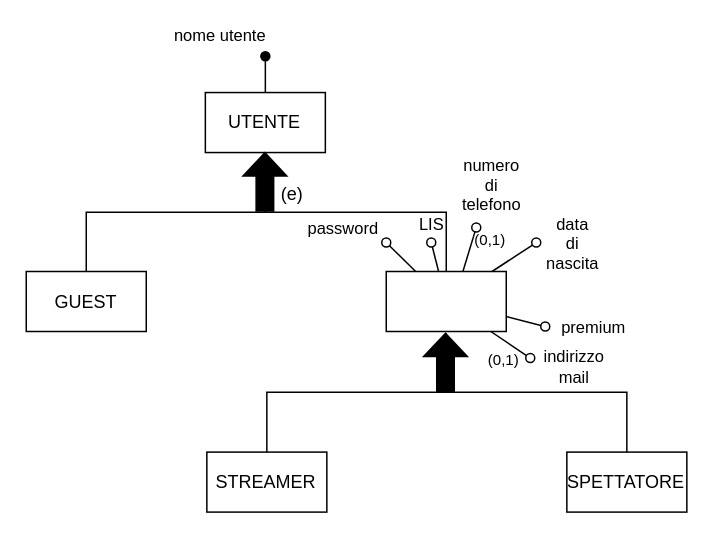
Image size: 714x540. Some labels were removed from this diagram. The shapes that lost their labels are listed below. From the top down, each one's box as (x1, y1, x2, y2) in pixels, then its label:
(385, 270, 506, 332): REGISTRATO
(422, 332, 467, 392): (s)
